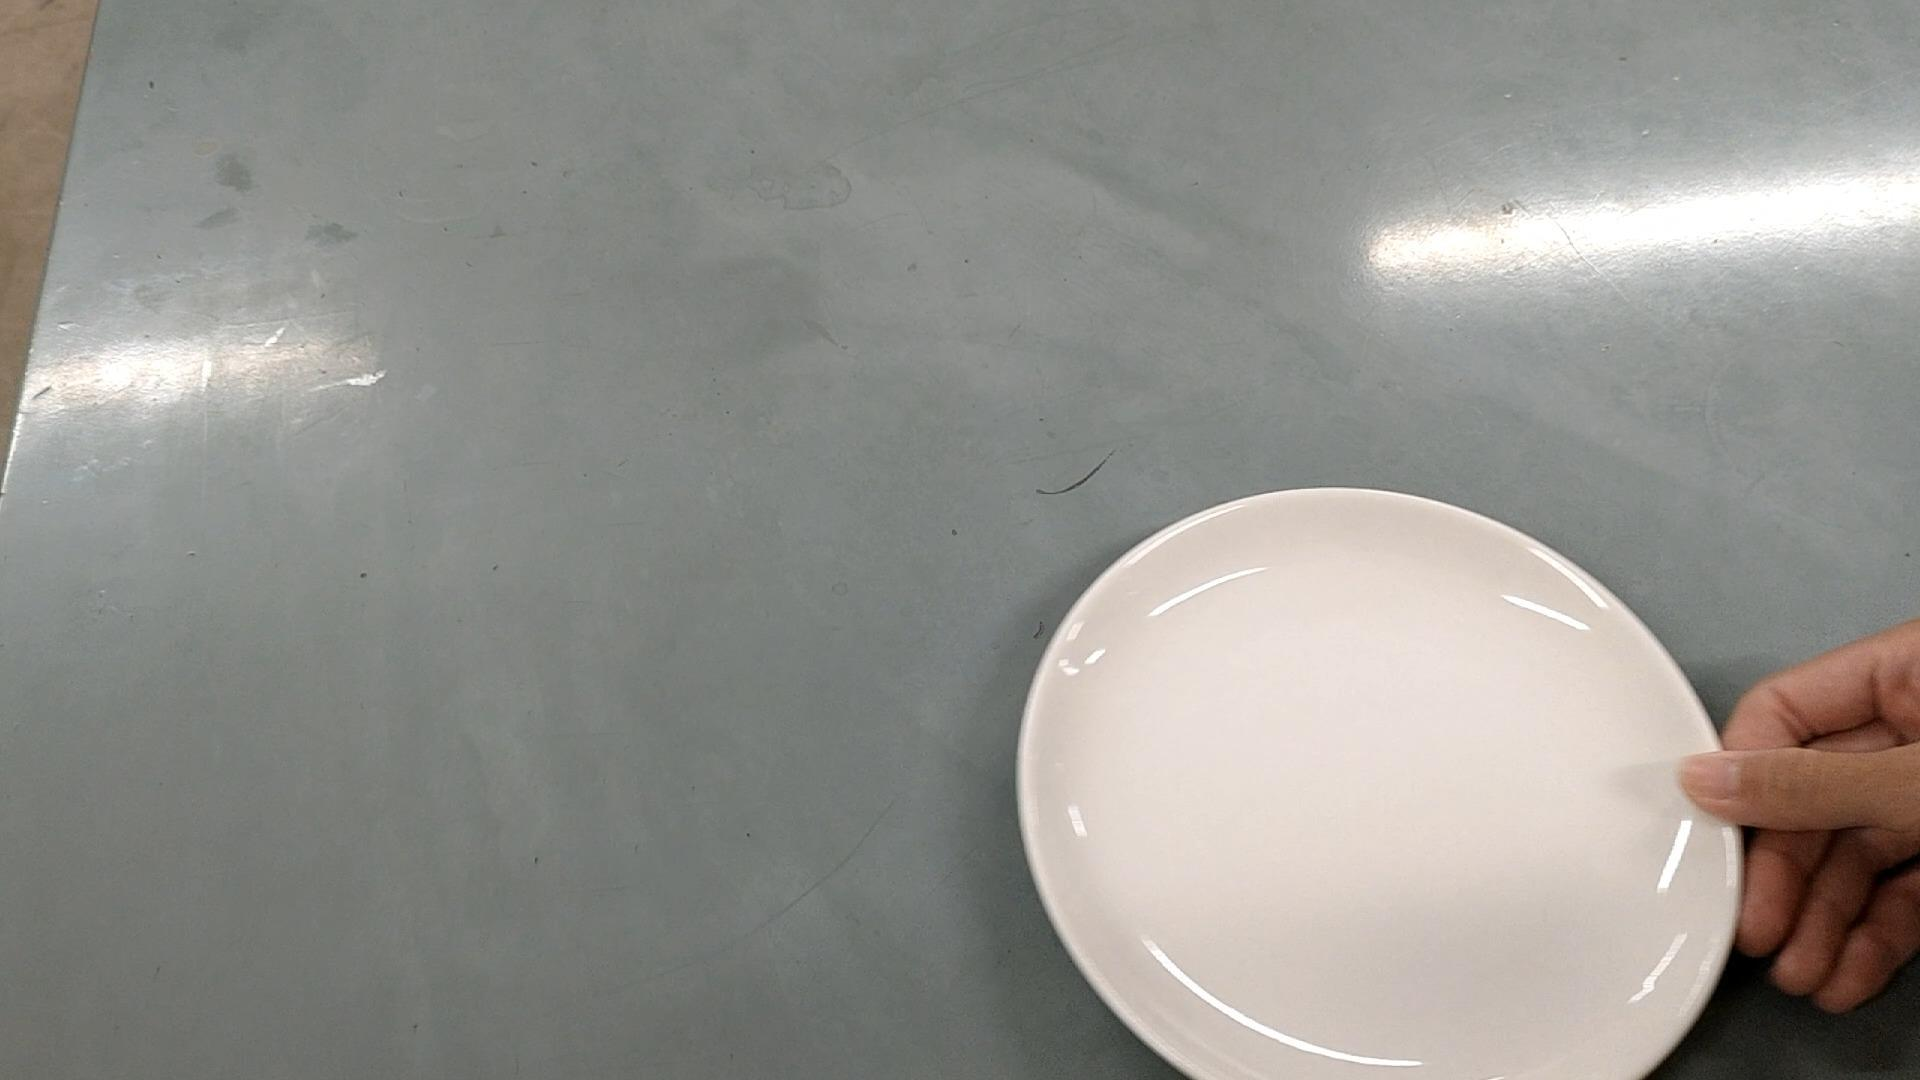plate: (1015, 477, 1743, 1080)
